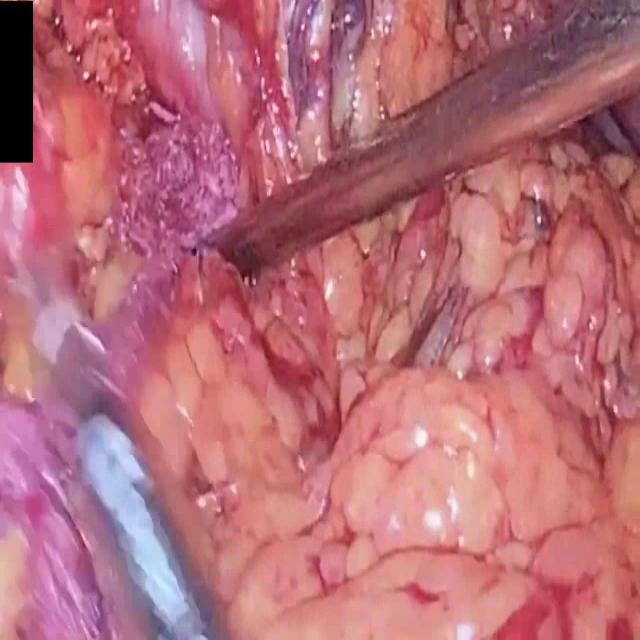surgical-area: (1, 0, 640, 638)
